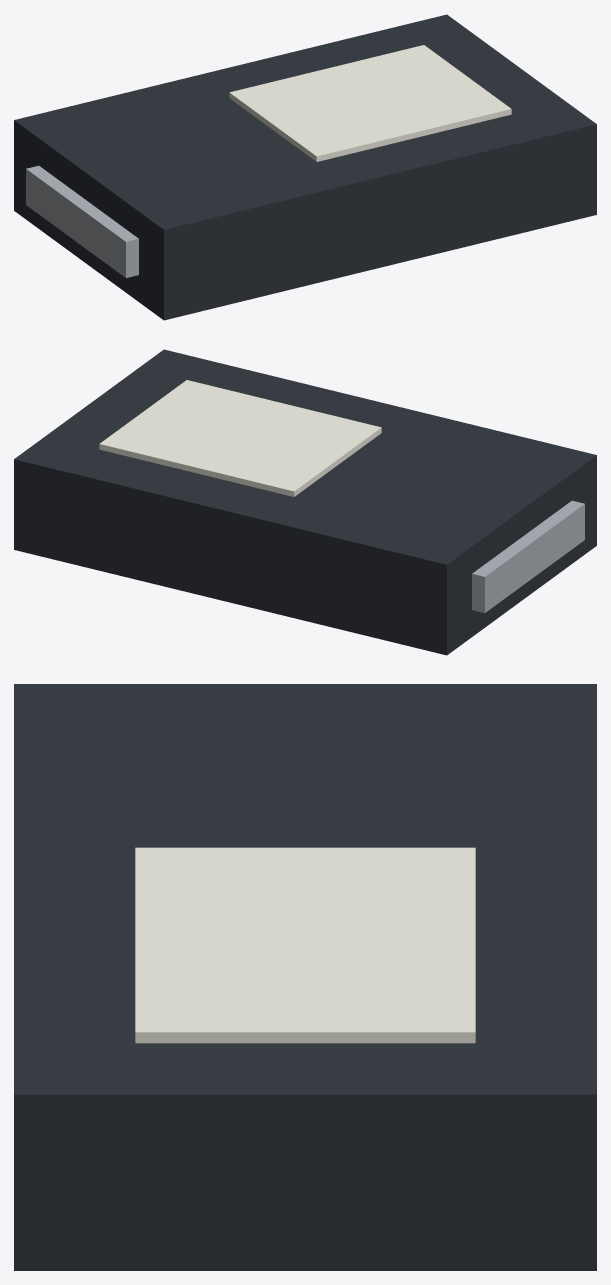
File: prop_data_drive.glb
3 views of the same model, one above another, from view 1: azimuth 30°, elevation 25°; view 2: azimuth 150°, elevation 25°; view 3: azimuth 270°, elevation 25° (orthographic). The views are drawn at different scales.
Parts seen in each view (by area): view 1: prop_data_drive; view 2: prop_data_drive; view 3: prop_data_drive.
Part boxes in pixels (<box>): prop_data_drive: <box>14,14,596,320</box>; prop_data_drive: <box>14,349,596,655</box>; prop_data_drive: <box>14,684,596,1270</box>.
Size of the model in its own units: 0.206 by 0.0425 by 0.12.
1 material, 1 textured.
